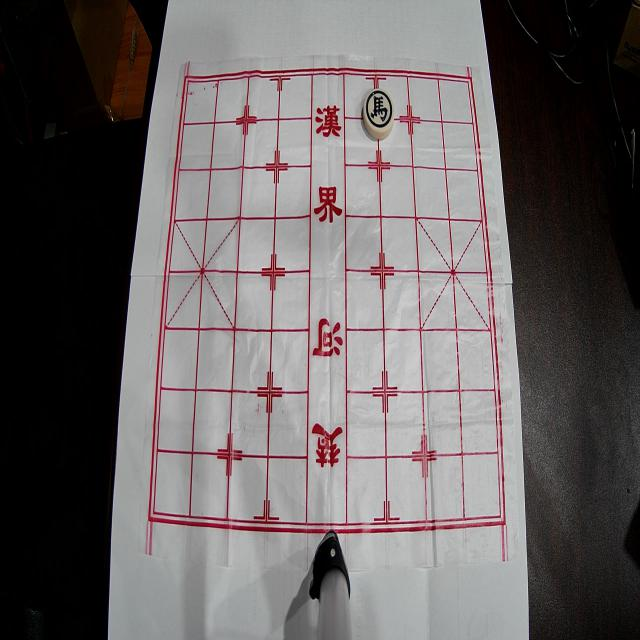black-horse: (363, 89, 395, 139)
